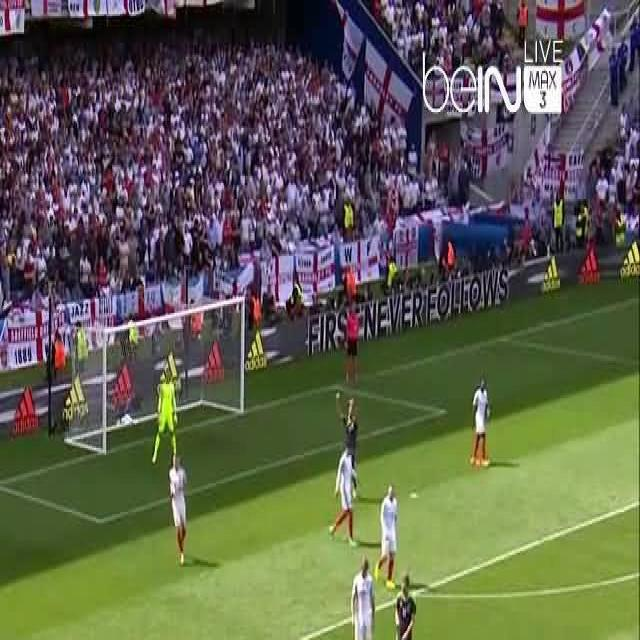player-white: (328, 439, 357, 549), (152, 368, 178, 467), (375, 484, 399, 590), (169, 456, 190, 566), (336, 388, 357, 498), (350, 554, 375, 640), (468, 377, 490, 469), (391, 572, 417, 640), (345, 303, 359, 385)
